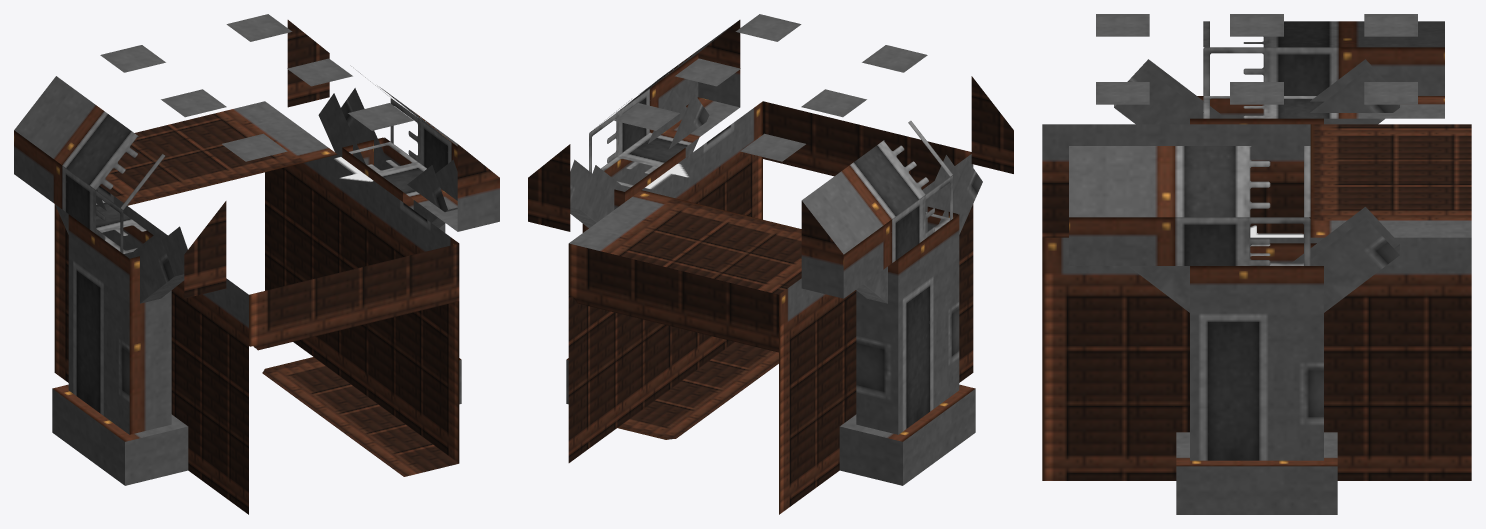
Rendered from electrolyzer.obj.
The picture shows the model from 3 angles, left to right: view 1: azimuth 30°, elevation 25°; view 2: azimuth 150°, elevation 25°; view 3: azimuth 270°, elevation 25°; orthographic projection. The views are drawn at different scales.
Visible parts, largest first — view 1: pool, postMainW, beamW, beamE, postBaseW, rafter2W, rafter2E, rafter1E, postMainE, electrode3W, electrode2E, electrode3E (+3 smaller); view 2: pool, beamW, postMainW, beamE, postBaseW, rafter2E, rafter2W, rafter1E, postMainE, electrode1W, electrode2E, electrode1E (+4 smaller); view 3: pool, postMainE, beamE, beamW, postBaseE, rafter2E, rafter2W, rafter1W, postMainW, rafter1E, electrode2W, electrode3W (+4 smaller).
Boxes of the visible parts, <box> form: pool: <box>54,101,459,514</box>; postMainW: <box>68,214,171,434</box>; beamW: <box>14,76,226,298</box>; beamE: <box>287,20,499,231</box>; postBaseW: <box>52,384,188,485</box>; rafter2W: <box>127,226,187,303</box>; rafter2E: <box>318,88,390,170</box>; rafter1E: <box>407,159,457,228</box>; postMainE: <box>342,137,445,232</box>; electrode3W: <box>222,133,287,161</box>; electrode2E: <box>287,58,352,86</box>; electrode3E: <box>226,14,292,41</box>; pool: <box>568,101,973,514</box>; beamW: <box>801,76,1013,298</box>; postMainW: <box>856,206,959,434</box>; beamE: <box>528,20,740,231</box>; postBaseW: <box>839,384,975,485</box>; rafter2E: <box>570,159,626,228</box>; rafter2W: <box>925,155,982,234</box>; rafter1E: <box>627,88,709,189</box>; postMainE: <box>582,148,685,232</box>; electrode1W: <box>740,133,805,161</box>; electrode2E: <box>675,58,740,86</box>; electrode1E: <box>735,14,801,41</box>; pool: <box>1042,124,1471,480</box>; postMainE: <box>1190,243,1323,460</box>; beamE: <box>1069,146,1310,265</box>; beamW: <box>1203,21,1444,118</box>; postBaseE: <box>1176,432,1337,514</box>; rafter2E: <box>1291,207,1399,312</box>; rafter2W: <box>1114,59,1226,124</box>; rafter1W: <box>1310,59,1399,124</box>; postMainW: <box>1190,96,1323,124</box>; rafter1E: <box>1128,266,1189,312</box>; electrode2W: <box>1230,14,1283,36</box>; electrode3W: <box>1096,14,1149,36</box>.
Bounding box in the file's own units: 1 × 0.9375 × 1.
